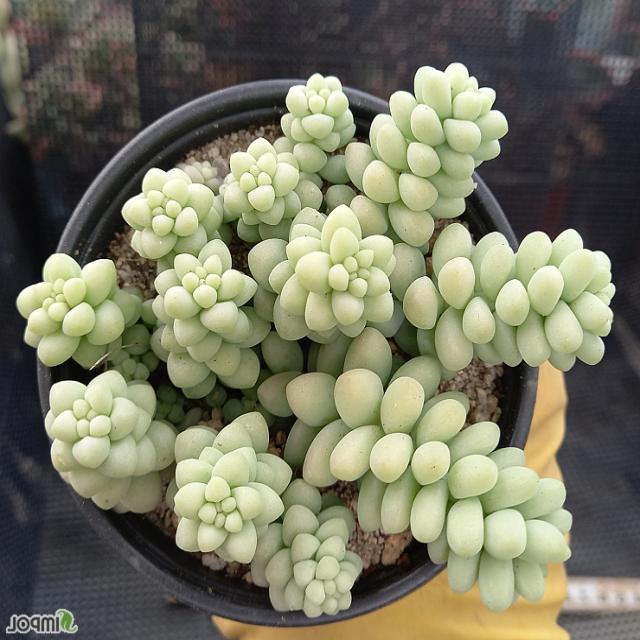Sedum: (304, 357, 571, 611), (402, 223, 615, 372), (346, 63, 509, 247), (250, 205, 396, 343), (152, 239, 270, 398), (45, 370, 175, 513), (174, 411, 291, 562), (251, 478, 364, 617), (18, 253, 150, 368), (122, 169, 222, 268), (274, 74, 356, 187), (224, 152, 322, 229)
